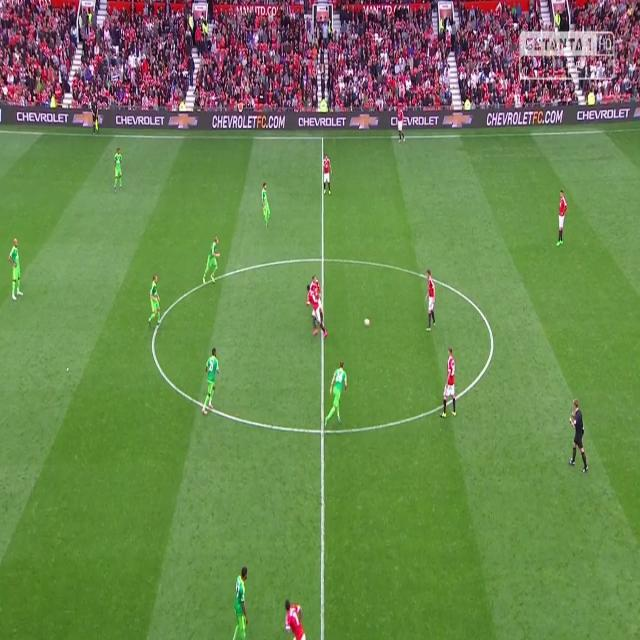Ball: (362, 314, 371, 332)
Player: (323, 356, 349, 429), (199, 346, 221, 420), (439, 344, 459, 424), (302, 284, 328, 339), (232, 563, 250, 640), (201, 232, 224, 288), (282, 595, 310, 640), (8, 234, 24, 306), (146, 272, 163, 331), (554, 187, 569, 249), (260, 178, 274, 231), (426, 269, 436, 333), (112, 145, 125, 194), (320, 151, 333, 197), (395, 108, 406, 146)
Referee: (568, 395, 588, 478), (90, 96, 100, 134)
